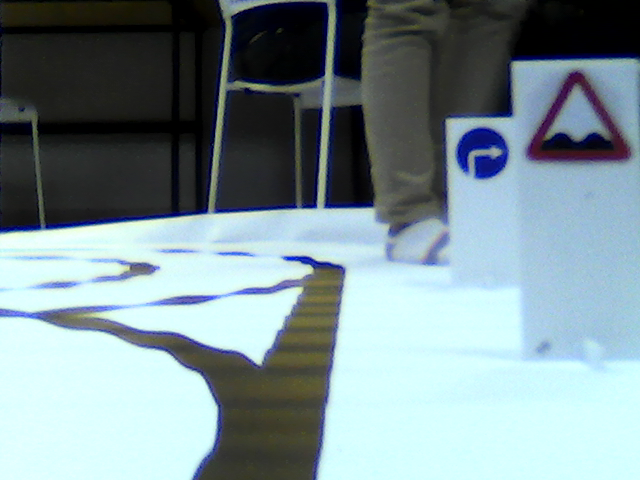Nerov: (526, 69, 634, 164)
Right: (455, 125, 511, 180)
